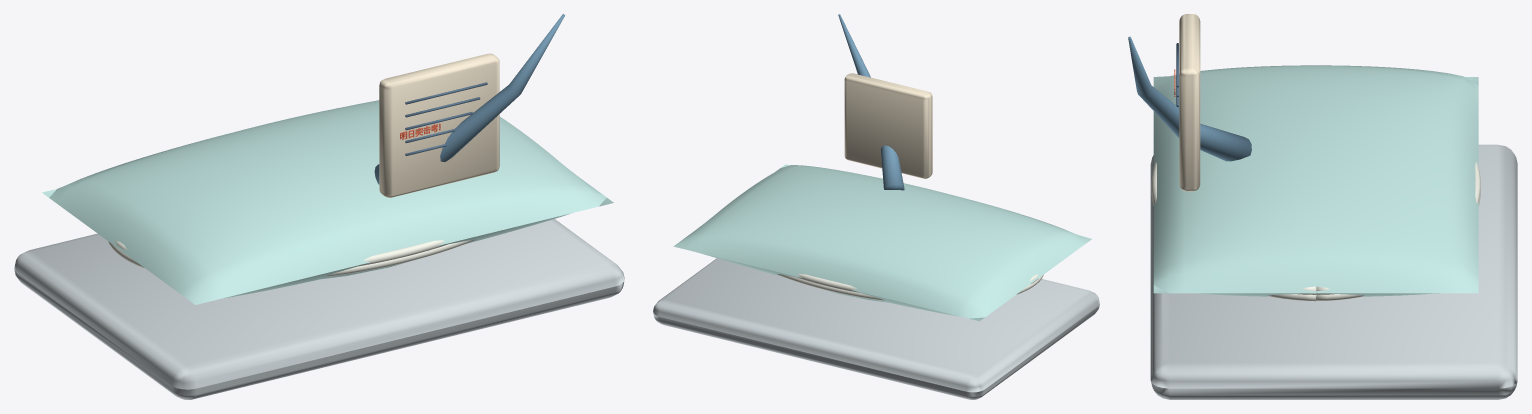
File: X04_Lunchtime_Prophecy_Pillow.glb
3 views of the same model, side by side, from view 1: azimuth 30°, elevation 25°; view 2: azimuth 150°, elevation 25°; view 3: azimuth 270°, elevation 25° (orthographic). The views are drawn at different scales.
Visible parts, largest first — view 1: X04_PILLOW_ACTOR | Original soft sea-foam brushed cotton pil, X04 school dorm single nap bed visible folded quilt, X04 actual school predicted tomorrow test paper scroll, X04 actual rolled ribbon of prophecy escaping nap pillow, X04_PILLOW_ACTOR | Real satin white piping stitched along pi, X04_PROPHECY_NOTE_ACTOR | School red black explanatory handw; view 2: X04_PILLOW_ACTOR | Original soft sea-foam brushed cotton pil, X04 school dorm single nap bed visible folded quilt, X04 actual school predicted tomorrow test paper scroll, X04 actual rolled ribbon of prophecy escaping nap pillow, X04_PILLOW_ACTOR | Real satin white piping stitched along pi; view 3: X04_PILLOW_ACTOR | Original soft sea-foam brushed cotton pil, X04 school dorm single nap bed visible folded quilt, X04 actual school predicted tomorrow test paper scroll, X04 actual rolled ribbon of prophecy escaping nap pillow, X04_PILLOW_ACTOR | Real satin white piping stitched along pi.
Part boxes in pixels (<box>): X04_PILLOW_ACTOR | Original soft sea-foam brushed cotton pil: <box>42,100,613,304</box>; X04 school dorm single nap bed visible folded quilt: <box>14,219,624,399</box>; X04 actual school predicted tomorrow test paper scroll: <box>379,53,499,197</box>; X04 actual rolled ribbon of prophecy escaping nap pillow: <box>374,14,564,184</box>; X04_PILLOW_ACTOR | Real satin white piping stitched along pi: <box>107,239,475,276</box>; X04_PROPHECY_NOTE_ACTOR | School red black explanatory handw: <box>405,82,487,155</box>; X04_PILLOW_ACTOR | Original soft sea-foam brushed cotton pil: <box>673,164,1091,321</box>; X04 school dorm single nap bed visible folded quilt: <box>653,258,1099,399</box>; X04 actual school predicted tomorrow test paper scroll: <box>844,73,932,178</box>; X04 actual rolled ribbon of prophecy escaping nap pillow: <box>838,14,904,190</box>; X04_PILLOW_ACTOR | Real satin white piping stitched along pi: <box>775,273,1043,300</box>; X04_PILLOW_ACTOR | Original soft sea-foam brushed cotton pil: <box>1153,65,1478,296</box>; X04 school dorm single nap bed visible folded quilt: <box>1150,144,1517,399</box>; X04 actual school predicted tomorrow test paper scroll: <box>1179,14,1200,191</box>; X04 actual rolled ribbon of prophecy escaping nap pillow: <box>1128,36,1251,161</box>; X04_PILLOW_ACTOR | Real satin white piping stitched along pi: <box>1151,161,1480,301</box>.
Size of the model in its own units: 1.83 by 1.21 by 1.29.
